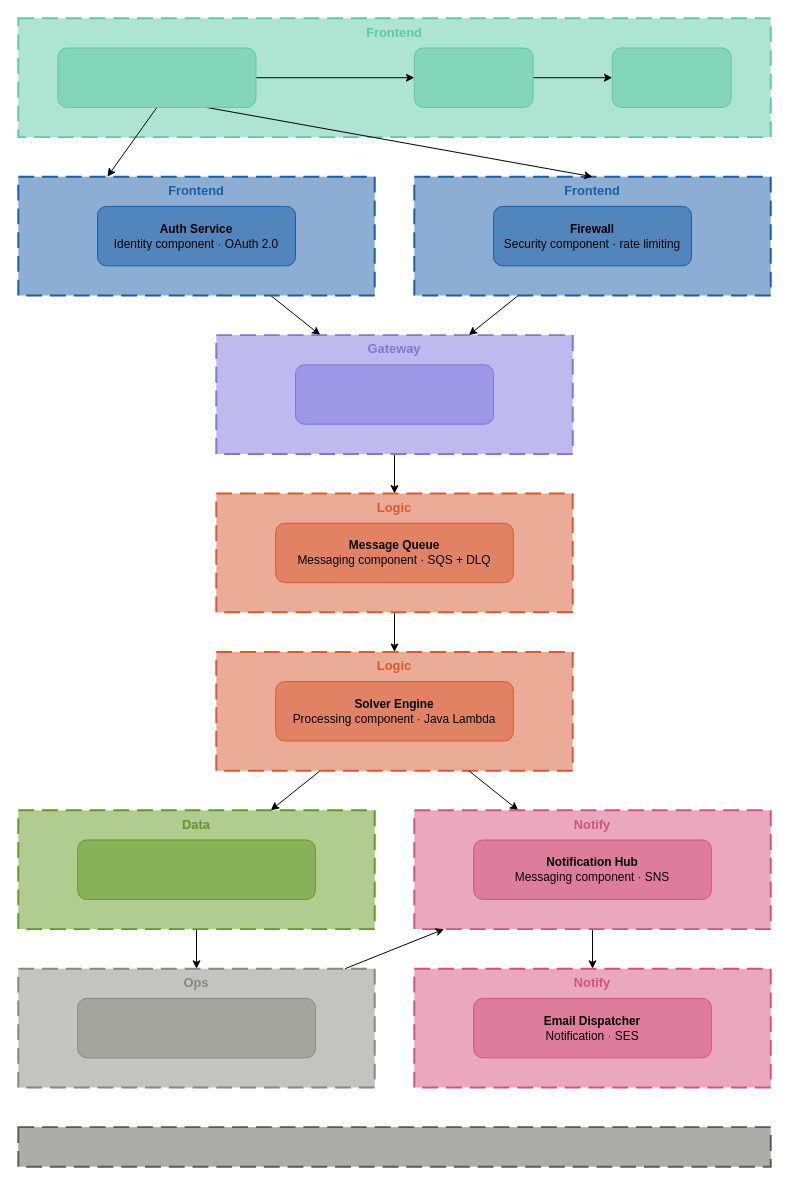
Image size: 788x1184. Some labels were removed from this diagram. The box of each missing label's shape, as (x1, y1, x2, y2) in pixels:
API Endpoint API gateway · HTTPS REST: (295, 364, 494, 424)
CDN Delivery Content Delivery: (413, 47, 533, 107)
Game Repository Data store · DynamoDB: (77, 839, 315, 899)
Observability — CloudWatch + X-Ray (monitoring component, transversal): (17, 1126, 771, 1167)
Scheduler Scheduling · EventBridge: (77, 997, 315, 1058)
Static Storage Storage Component: (611, 47, 731, 107)
Web UI Presentation Component: (57, 47, 256, 107)
